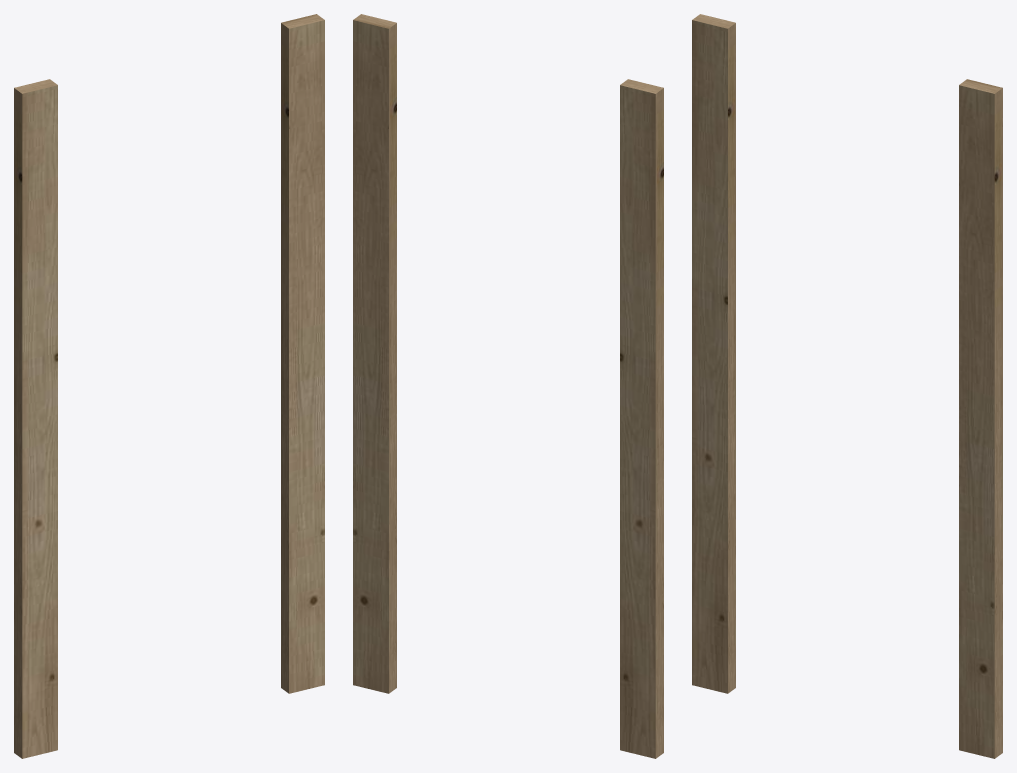
File: Joglo_part_417.fbx
3 renders of one model, left to right at view 1: azimuth 30°, elevation 25°; view 2: azimuth 150°, elevation 25°; view 3: azimuth 330°, elevation 25°, orthographic.
Parts seen in each view (by area): view 1: Mesh85_Wood___Pine_Grained_Horizontal_0.001; view 2: Mesh85_Wood___Pine_Grained_Horizontal_0.001; view 3: Mesh85_Wood___Pine_Grained_Horizontal_0.001.
Part boxes in pixels (left/top/right/bottom): Mesh85_Wood___Pine_Grained_Horizontal_0.001: left=14, top=14, right=324, bottom=758; Mesh85_Wood___Pine_Grained_Horizontal_0.001: left=353, top=14, right=663, bottom=758; Mesh85_Wood___Pine_Grained_Horizontal_0.001: left=692, top=14, right=1002, bottom=758.
Bounding box in the file's own units: 33.23 × 69.76 × 1.57.
